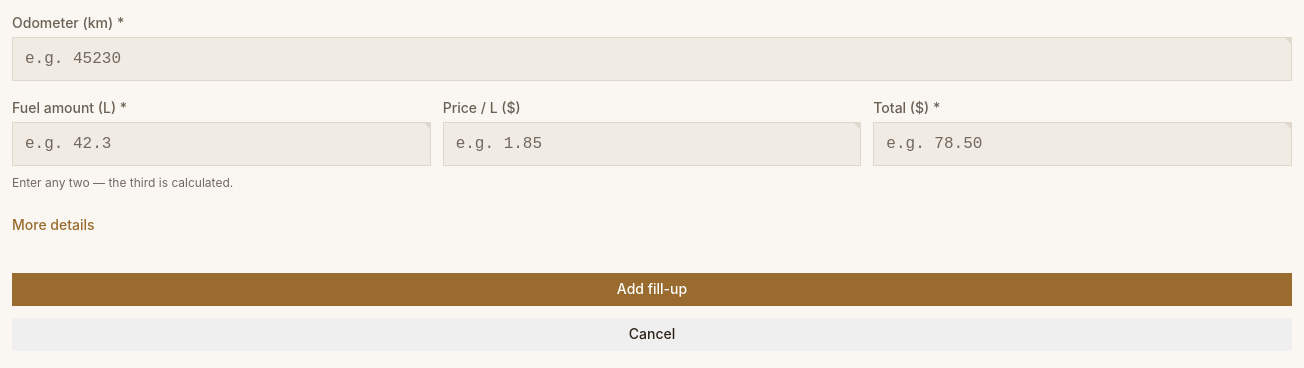
Test case: QuickFillForm › calculates total after fuel and price are entered
Type "40" into the field labelled "Fuel amount (L) *" at (221, 144), box x1=12 y1=122 x2=431 y2=166
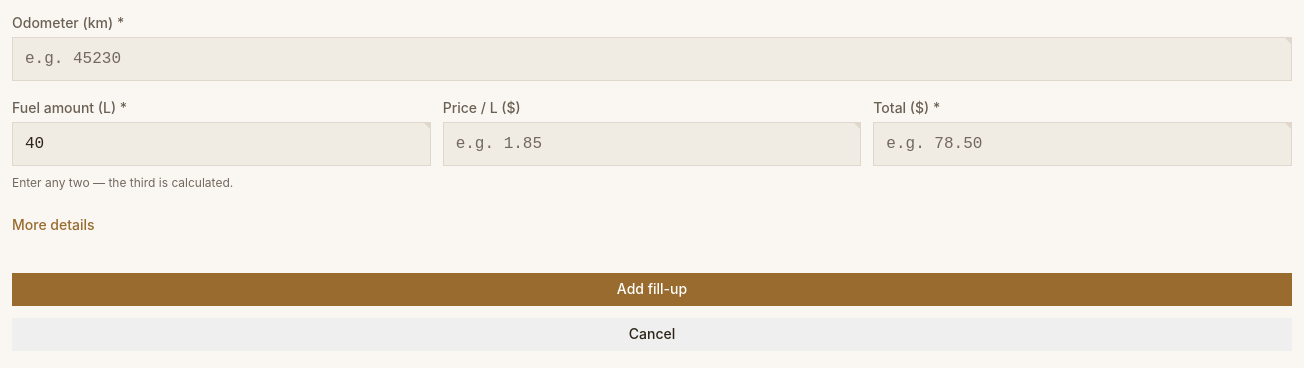
Type "1.5" into the field labelled "Price / L ($)" at (652, 144), box x1=443 y1=122 x2=861 y2=166
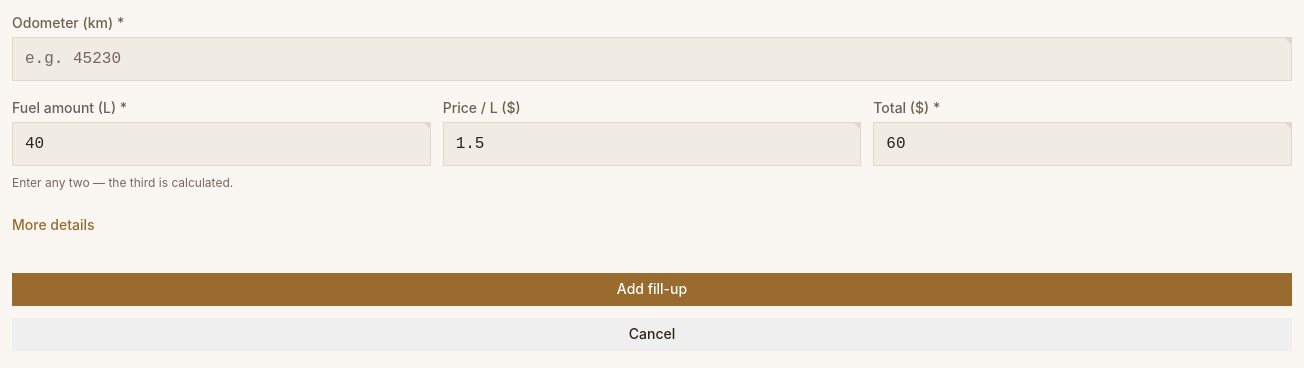
Now the field labelled "Total ($) *" holds "60", box x1=873 y1=122 x2=1292 y2=166
